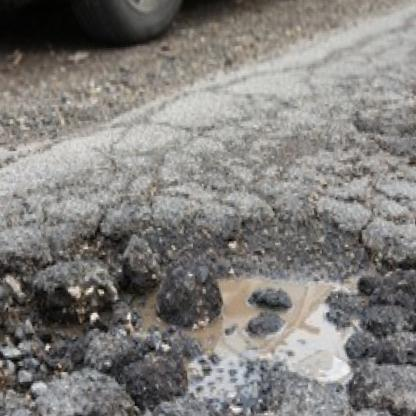pothole: (0, 193, 416, 416)
